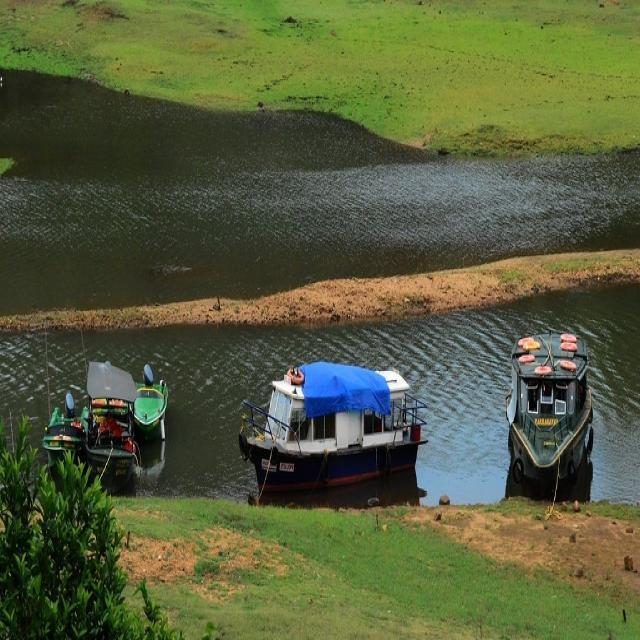boat: (234, 365, 442, 484), (508, 327, 597, 470), (88, 359, 137, 480), (135, 366, 173, 436), (44, 394, 84, 460)
